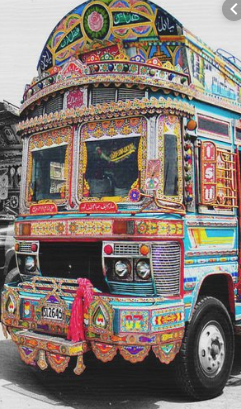truck: (1, 1, 240, 402)
